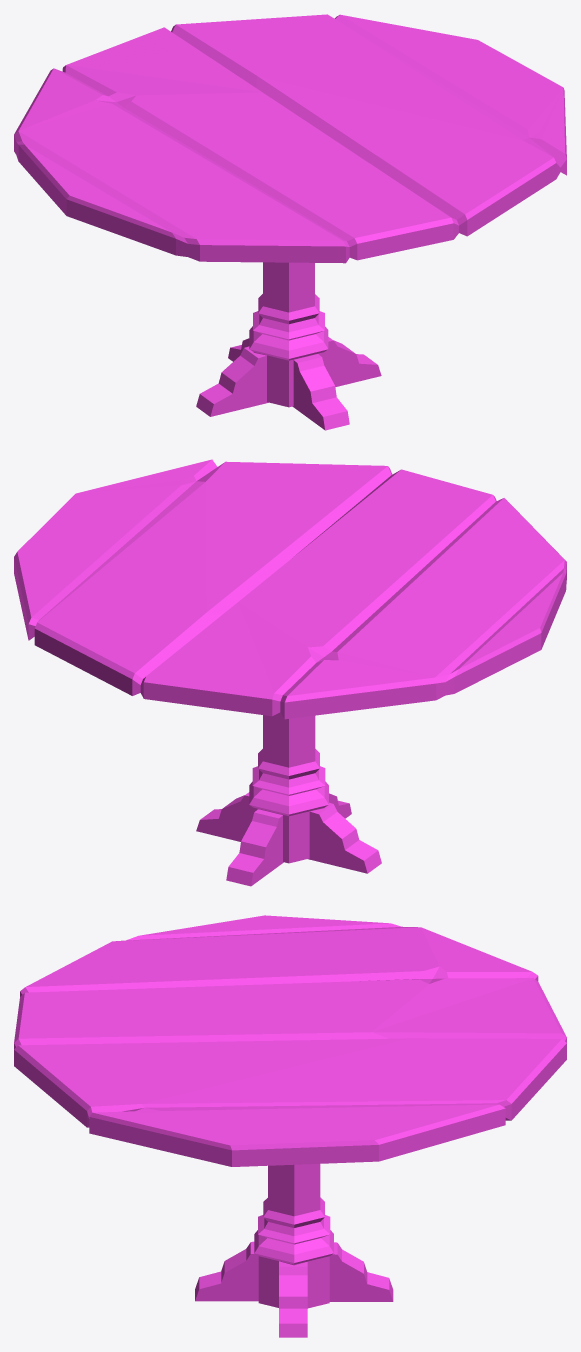
File: SM_Table_Fancy_Round_B_Fantasy.fbx
The picture shows the model from 3 angles, top to bottom: view 1: azimuth 30°, elevation 25°; view 2: azimuth 150°, elevation 25°; view 3: azimuth 270°, elevation 25°; orthographic projection.
Parts seen in each view (by area): view 1: SM_Table_Fancy_Round_B_Fantasy; view 2: SM_Table_Fancy_Round_B_Fantasy; view 3: SM_Table_Fancy_Round_B_Fantasy.
Part boxes in pixels (left/top/right/bottom): SM_Table_Fancy_Round_B_Fantasy: left=14, top=14, right=566, bottom=430; SM_Table_Fancy_Round_B_Fantasy: left=14, top=459, right=566, bottom=886; SM_Table_Fancy_Round_B_Fantasy: left=14, top=915, right=566, bottom=1337.
Bounding box in the file's own units: 1.5 × 0.8 × 1.49.
